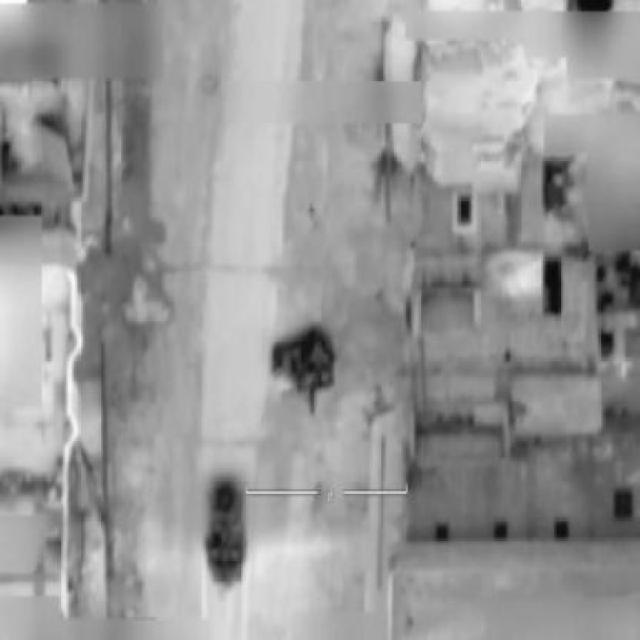Vehicle: (271, 332, 336, 409), (203, 486, 247, 594)
